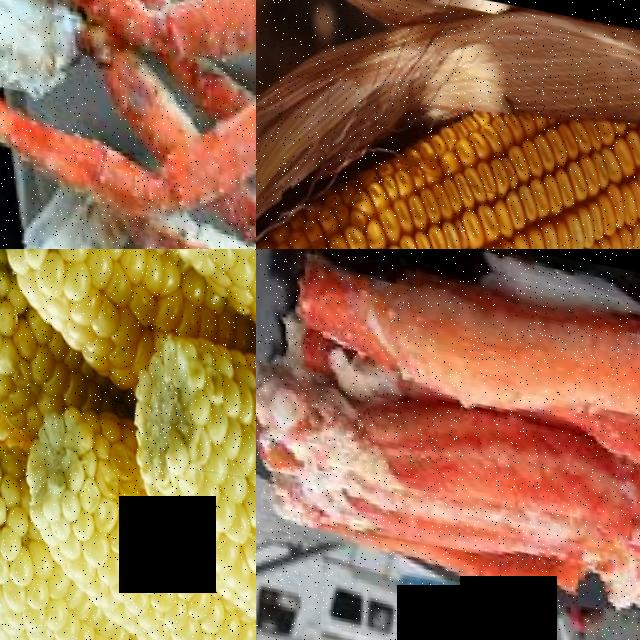corn: (18, 392, 224, 640), (127, 334, 256, 640), (420, 82, 640, 249), (256, 116, 494, 249), (87, 249, 256, 396), (0, 249, 185, 381), (0, 437, 97, 640), (0, 249, 52, 429)
crab: (257, 249, 640, 630), (0, 0, 256, 249)
